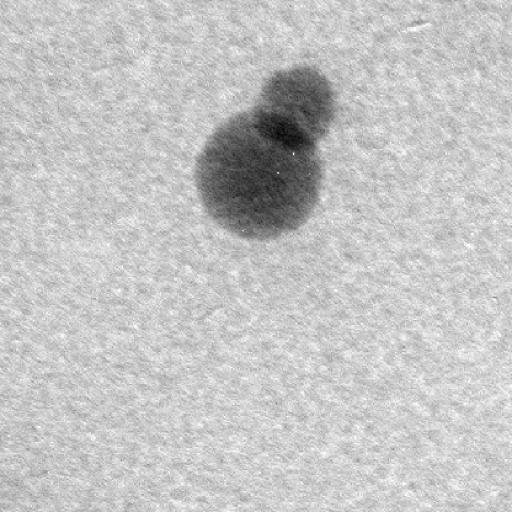Nanoparticles: (190, 105, 344, 243), (258, 54, 349, 144)
